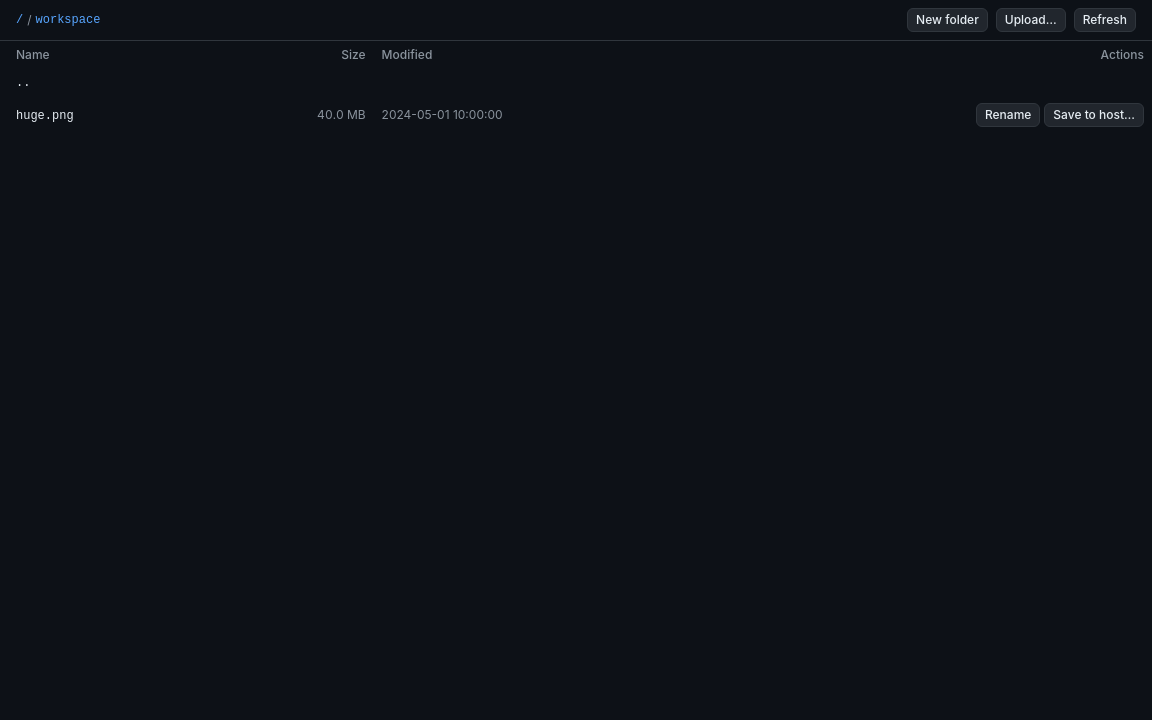
FilesTab viewer › refuses an oversized image rather than drawing a half-decoded one
The image size is (1152, 720).
Double-click the text "huge.png" at [45, 116], box x1=16 y1=108 x2=74 y2=122
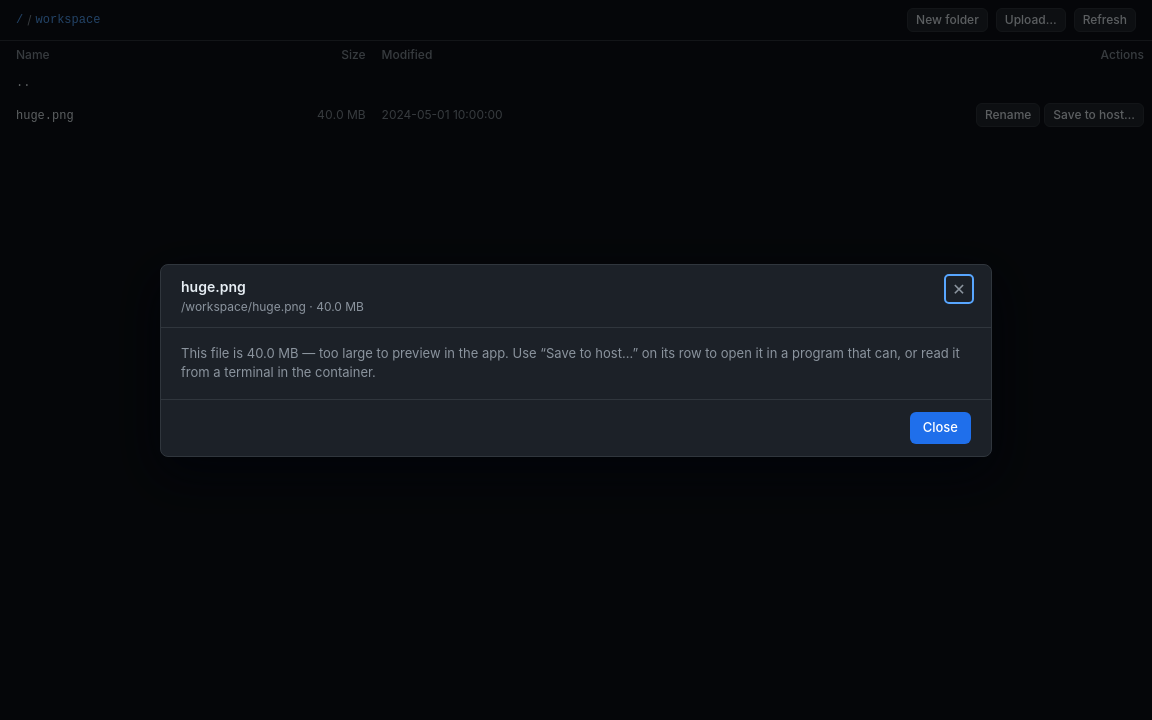
Expected: the text "Save to host" is shown, x1=181 y1=344 x2=960 y2=380
